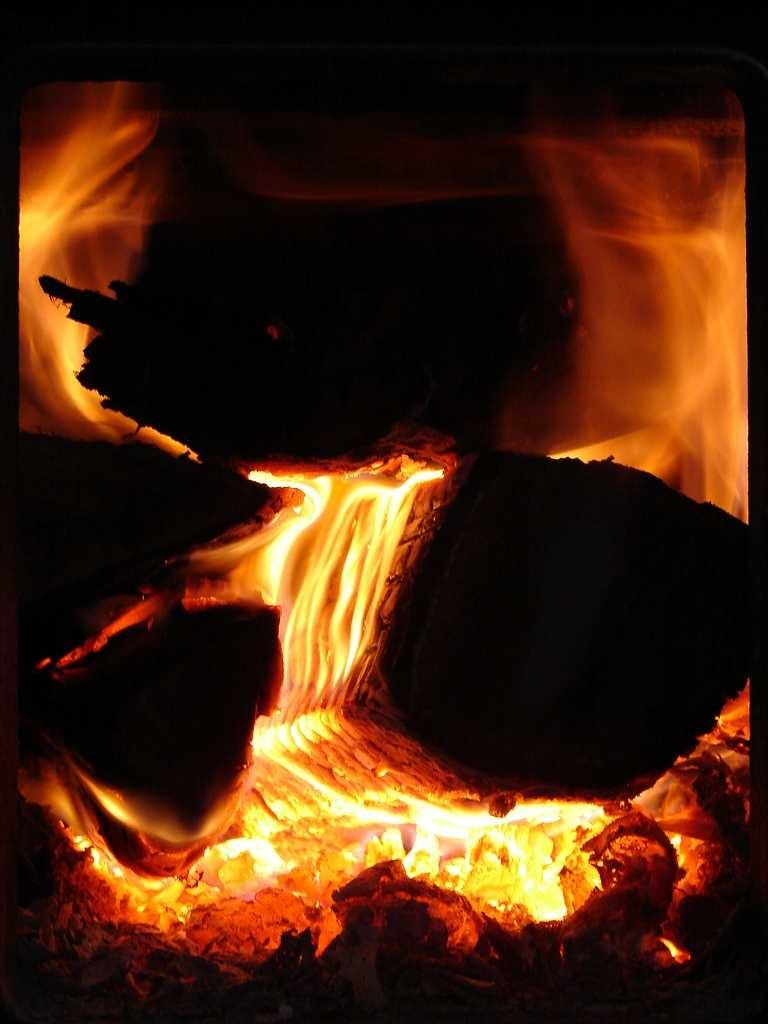fire: (582, 135, 745, 452), (418, 800, 632, 895), (278, 488, 368, 682), (265, 728, 372, 882), (30, 122, 130, 282)
